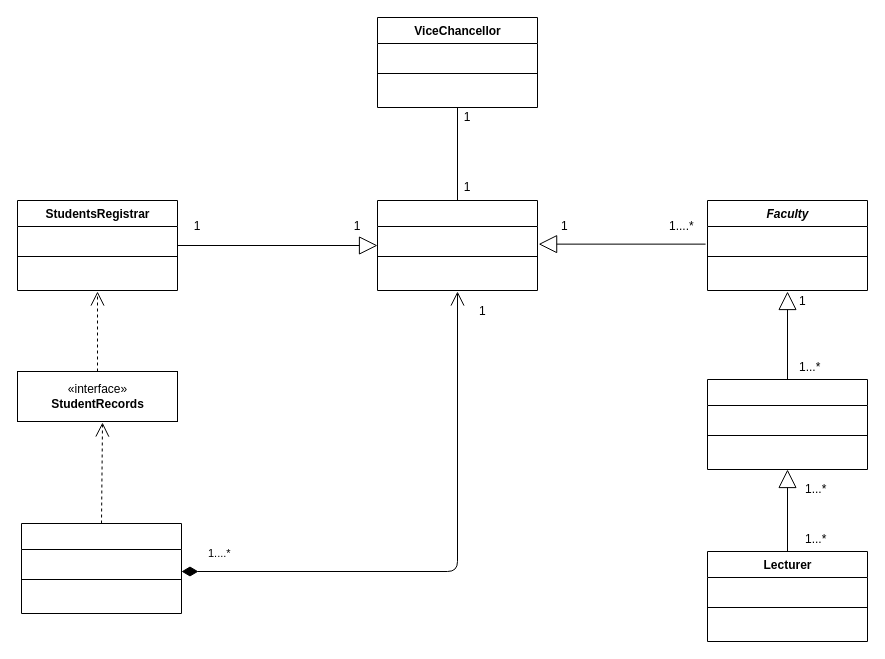
Some shapes in this 885 by 659 pixel diagram are drawn without their labels. The centre of each missing label's shape, as x and y in pixels:
Department: [787,424]
Student: [101,568]
University: [457,245]
